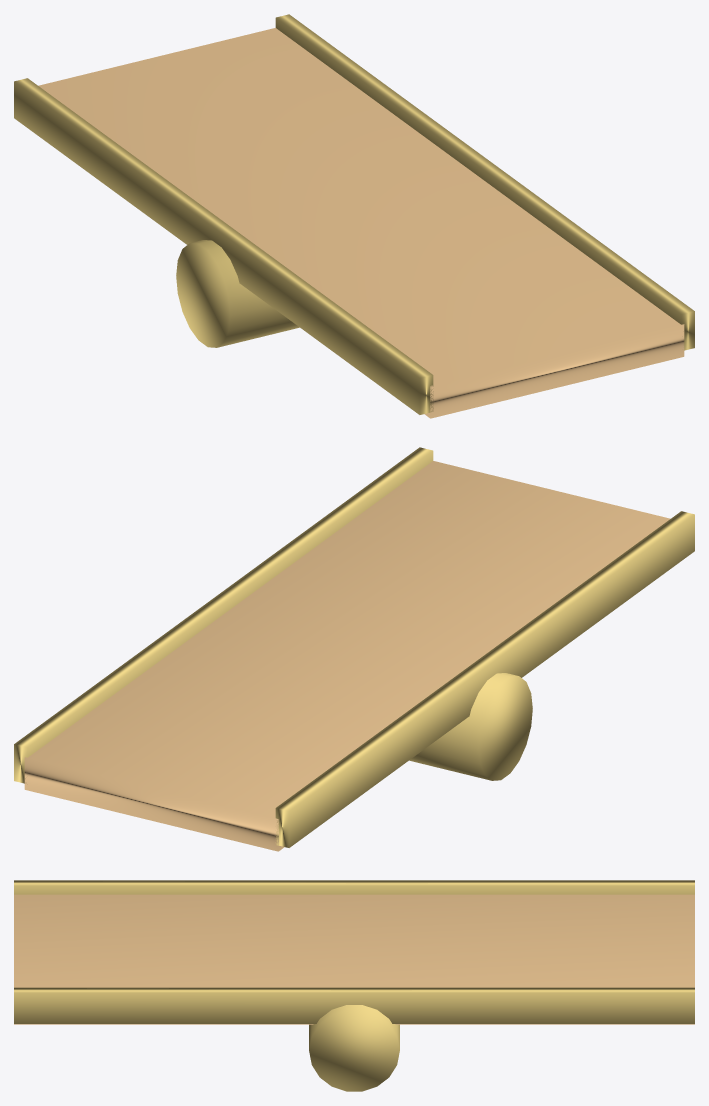
The model's file is hazard-seesaw.glb.
The picture shows the model from 3 angles, top to bottom: view 1: azimuth 30°, elevation 25°; view 2: azimuth 150°, elevation 25°; view 3: azimuth 270°, elevation 25°; orthographic projection. The views are drawn at different scales.
Visible parts, largest first — view 1: Cube, Cube.001, Cube.002, Cylinder; view 2: Cube, Cube.001, Cube.002, Cylinder; view 3: Cube, Cube.002, Cube.001, Cylinder.
Boxes of the visible parts, x1,y1,x2,y2 form: Cube: [38, 28, 684, 418]; Cube.001: [14, 78, 433, 414]; Cube.002: [275, 14, 694, 350]; Cylinder: [176, 240, 299, 347]; Cube: [24, 461, 670, 851]; Cube.001: [275, 511, 694, 847]; Cube.002: [14, 447, 433, 783]; Cylinder: [409, 673, 532, 780]; Cube: [14, 894, 694, 1024]; Cube.002: [14, 987, 694, 1023]; Cube.001: [14, 880, 694, 894]; Cylinder: [309, 1005, 399, 1091].
Size of the model in its own units: 3.1 by 1.08 by 7.2.
